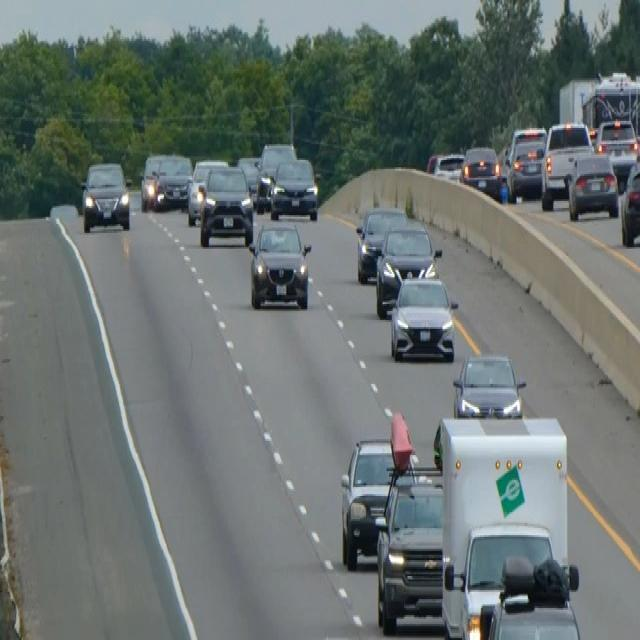car: (139, 137, 320, 245), (445, 519, 563, 638), (432, 350, 526, 470), (486, 551, 582, 638), (340, 435, 396, 569), (374, 220, 440, 316), (389, 274, 458, 362), (452, 350, 526, 418), (540, 119, 594, 208), (199, 164, 254, 247), (355, 205, 406, 282), (566, 150, 618, 220), (80, 160, 130, 231), (505, 124, 547, 201), (269, 157, 318, 220), (594, 115, 638, 185), (186, 156, 228, 226), (256, 140, 296, 208), (153, 151, 192, 210), (459, 144, 501, 197), (620, 158, 639, 245), (139, 151, 164, 210), (236, 154, 261, 204), (426, 150, 464, 182)
jeep: (374, 464, 444, 633), (246, 215, 313, 311)
truck: (435, 412, 571, 636)
